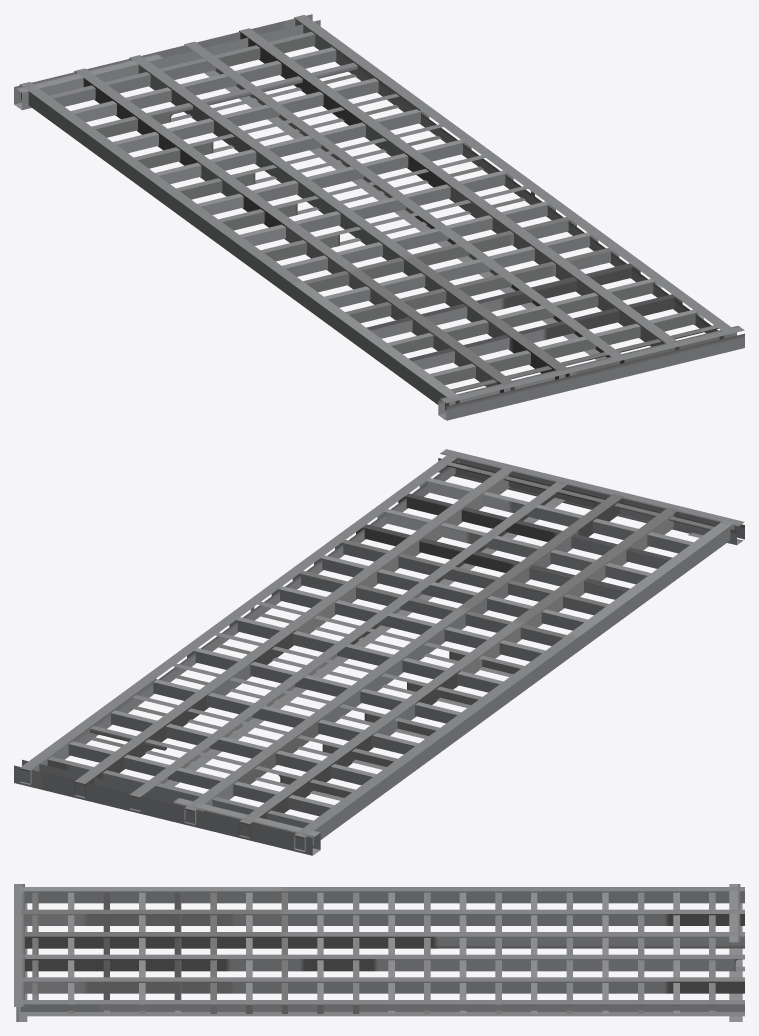
3 views of the same model, one above another, from view 1: azimuth 30°, elevation 25°; view 2: azimuth 150°, elevation 25°; view 3: azimuth 270°, elevation 25° (orthographic). The views are drawn at different scales.
Size of the model in its own units: 0.98 by 0.055 by 2.46.
